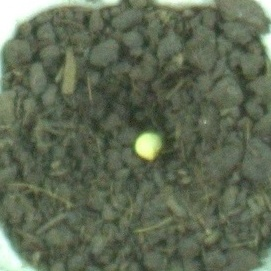pepper seed: (50, 48, 215, 212)
